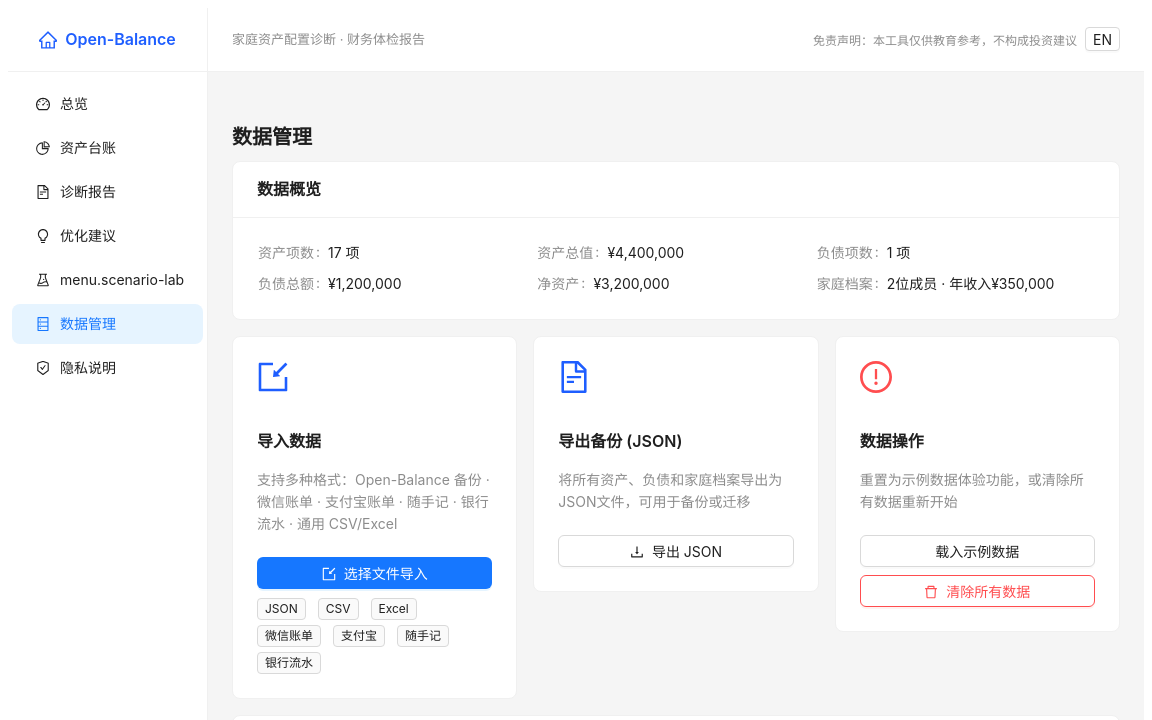
Scenario: UI 冒烟测试 (Issue #25) › 数据管理 → 导入弹窗打开并显示拖拽区
This screenshot has width=1152, height=720.
Step 1. Click the button "选择文件导入" → (375, 573), box [257,557,492,589]
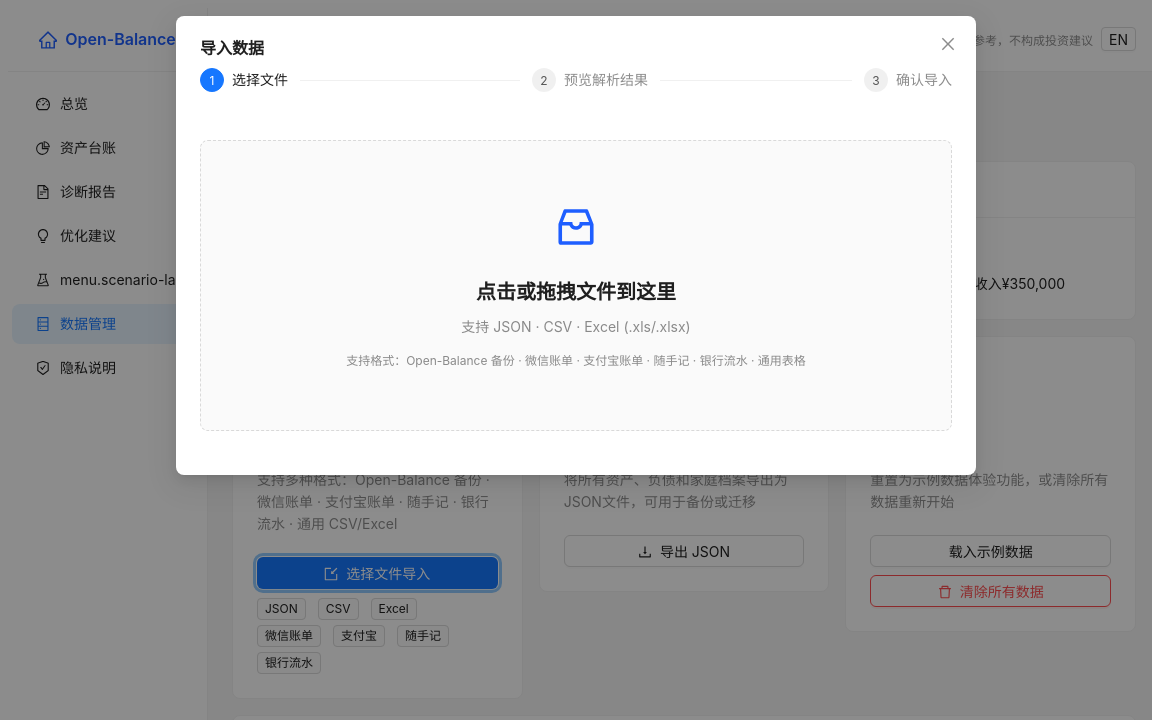
Check: the heading "点击或拖拽文件到这里" is shown, box [476,280,676,304]
Check: the text "选择文件" is shown, box [232,68,300,92]
